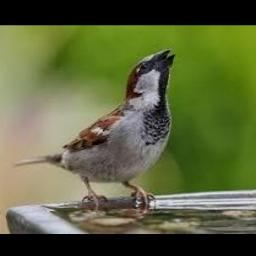Sparrow: (13, 49, 174, 210)
